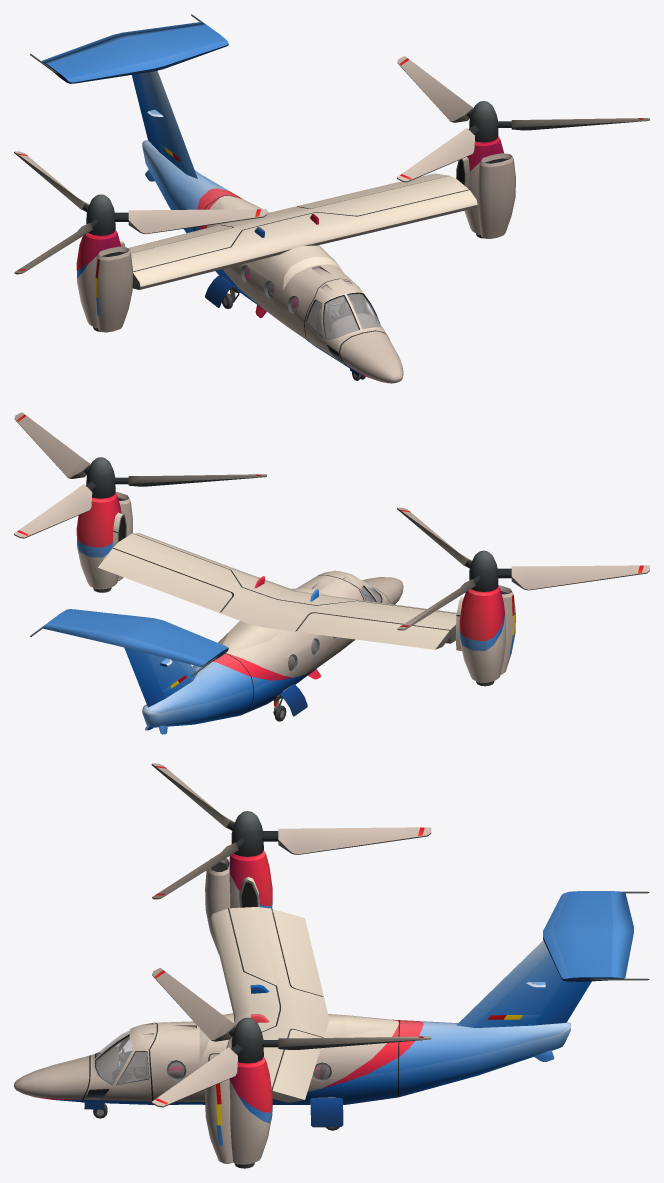
3 renders of one model, top to bottom at view 1: azimuth 30°, elevation 25°; view 2: azimuth 150°, elevation 25°; view 3: azimuth 270°, elevation 25°, orthographic. The views are drawn at different scales.
Visible parts, largest first — view 1: TP_Plane_04A_Fuselage, TP_Plane_04A_Rotor.L, TP_Plane_04A_Rotor.R, TP_Plane_04A_Engine.R, TP_Plane_04A_Engine.L, TP_Plane_04A_Flap.L, TP_Plane_04A_Flap.R; view 2: TP_Plane_04A_Fuselage, TP_Plane_04A_Rotor.L, TP_Plane_04A_Engine.R, TP_Plane_04A_Rotor.R, TP_Plane_04A_Engine.L, TP_Plane_04A_Flap.L, TP_Plane_04A_Flap.R, TP_Plane_04A_Hatch_R.R; view 3: TP_Plane_04A_Fuselage, TP_Plane_04A_Rotor.L, TP_Plane_04A_Rotor.R, TP_Plane_04A_Engine.L, TP_Plane_04A_Engine.R, TP_Plane_04A_Flap.R, TP_Plane_04A_Flap.L, TP_Plane_04A_Hatch_R.L.
Part boxes in pixels (x1,y1,x2,y2): TP_Plane_04A_Fuselage: [30, 14, 477, 383]; TP_Plane_04A_Rotor.L: [397, 56, 649, 182]; TP_Plane_04A_Rotor.R: [14, 151, 266, 274]; TP_Plane_04A_Engine.R: [76, 230, 132, 332]; TP_Plane_04A_Engine.L: [456, 136, 515, 238]; TP_Plane_04A_Flap.L: [296, 173, 449, 208]; TP_Plane_04A_Flap.R: [128, 225, 232, 253]; TP_Plane_04A_Fuselage: [30, 533, 456, 734]; TP_Plane_04A_Rotor.L: [14, 412, 266, 538]; TP_Plane_04A_Engine.R: [455, 585, 515, 686]; TP_Plane_04A_Rotor.R: [397, 507, 649, 630]; TP_Plane_04A_Engine.L: [76, 492, 132, 592]; TP_Plane_04A_Flap.L: [98, 548, 232, 612]; TP_Plane_04A_Flap.R: [296, 613, 449, 649]; TP_Plane_04A_Hatch_R.R: [280, 684, 307, 716]; TP_Plane_04A_Fuselage: [14, 891, 649, 1104]; TP_Plane_04A_Rotor.L: [151, 968, 431, 1107]; TP_Plane_04A_Rotor.R: [151, 763, 431, 899]; TP_Plane_04A_Engine.L: [205, 1057, 272, 1168]; TP_Plane_04A_Engine.R: [205, 850, 272, 954]; TP_Plane_04A_Flap.R: [272, 909, 323, 996]; TP_Plane_04A_Flap.L: [272, 1029, 322, 1102]; TP_Plane_04A_Hatch_R.L: [310, 1097, 343, 1127].
Size of the model in its own units: 24.53 by 6.74 by 19.27.
2 materials, 2 textured.
